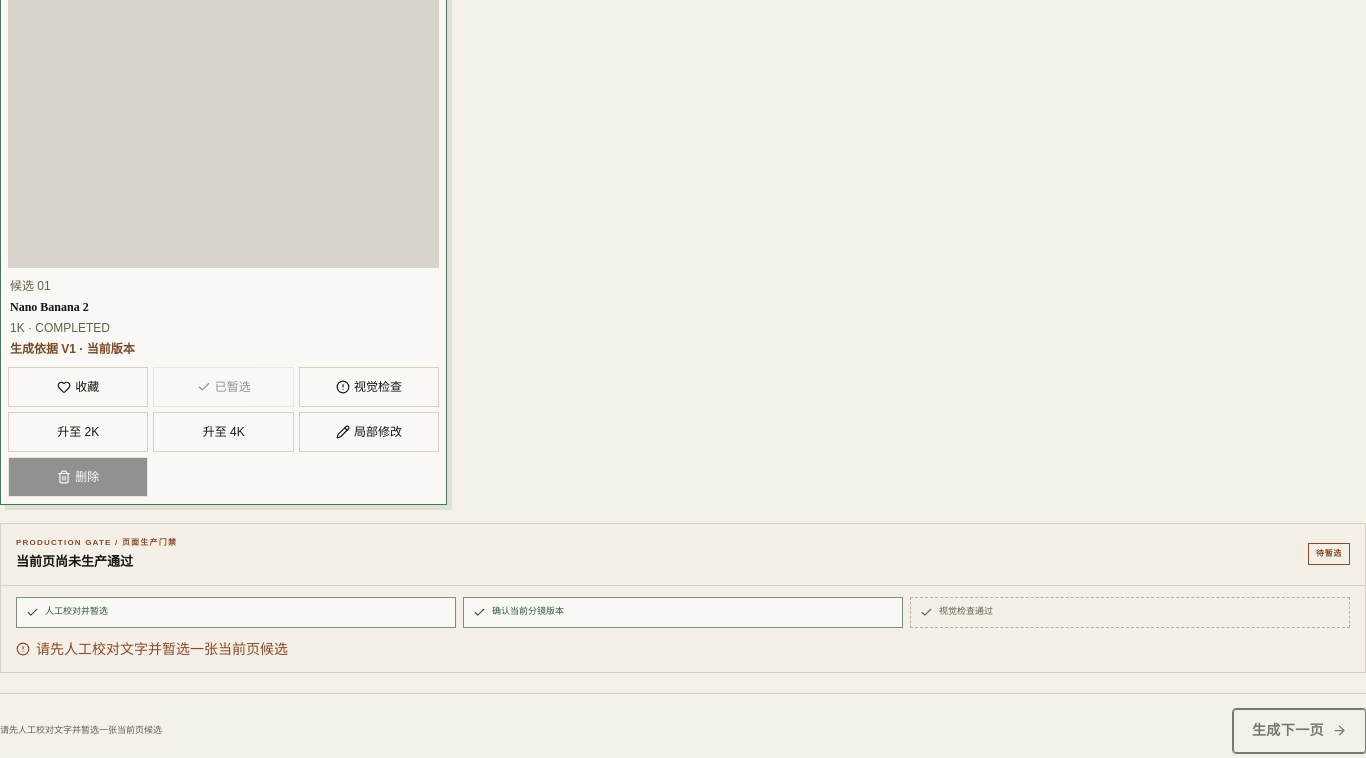
Test: GenerateSection 关键行为 › 局部修改入口：候选卡片按钮打开局部编辑器，关闭返回网格
(page scrolled)
Click the button "局部修改" at (369, 432), box x1=299 y1=412 x2=439 y2=452
(page scrolled)
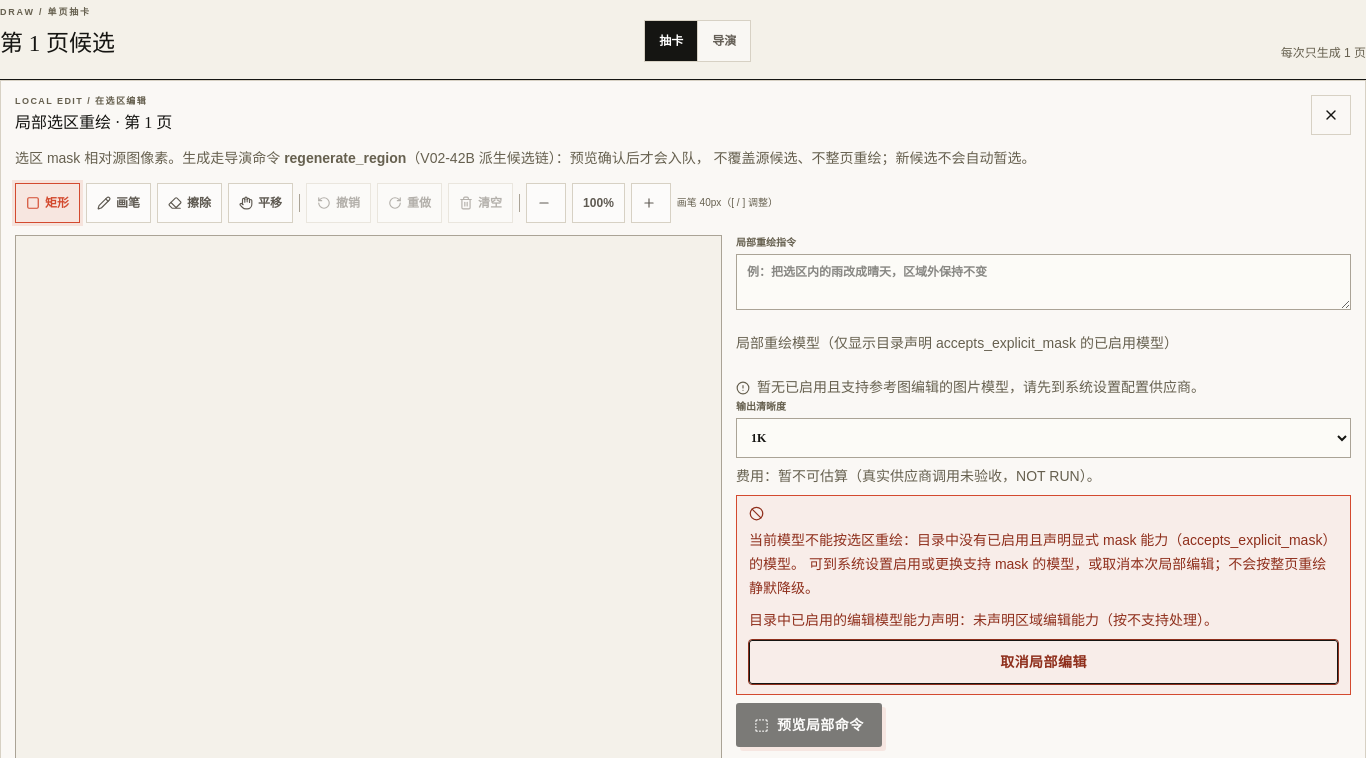
Expected: the heading "局部选区重绘 · 第 1 页" is shown, x1=15 y1=111 x2=172 y2=135
Click the button named "关闭局部编辑" at (1331, 114), box x1=1311 y1=94 x2=1351 y2=134
(page scrolled)
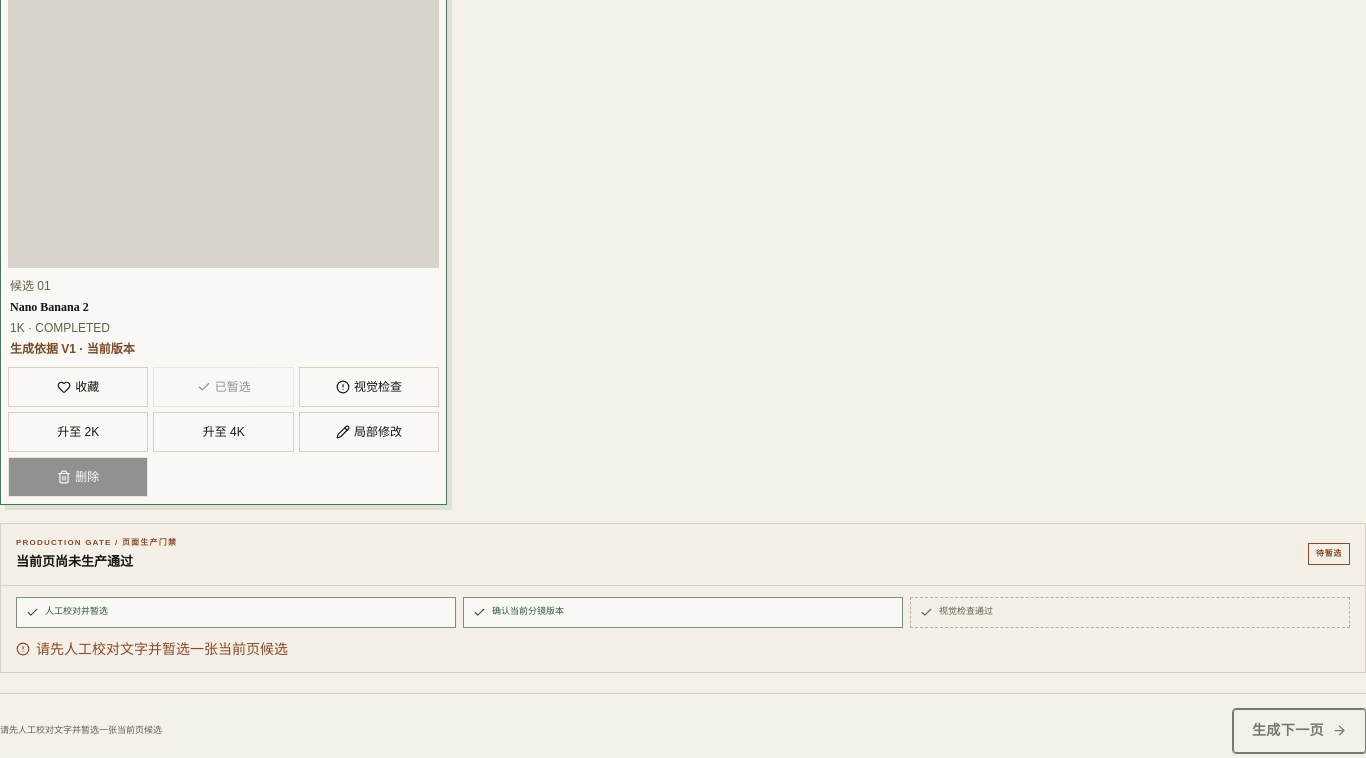
Expected: the button "局部修改" is shown, x1=299 y1=412 x2=439 y2=452
